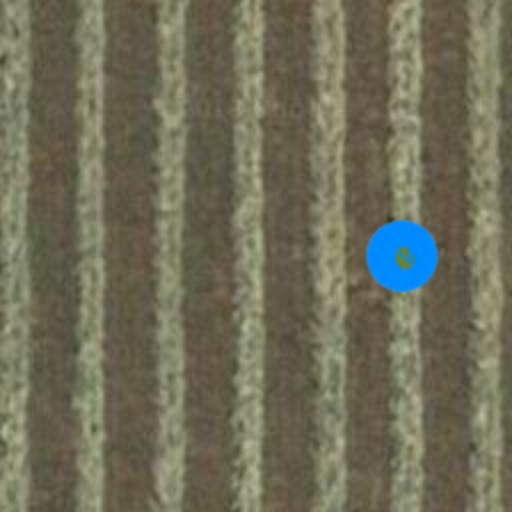circle: (350, 204, 454, 308)
